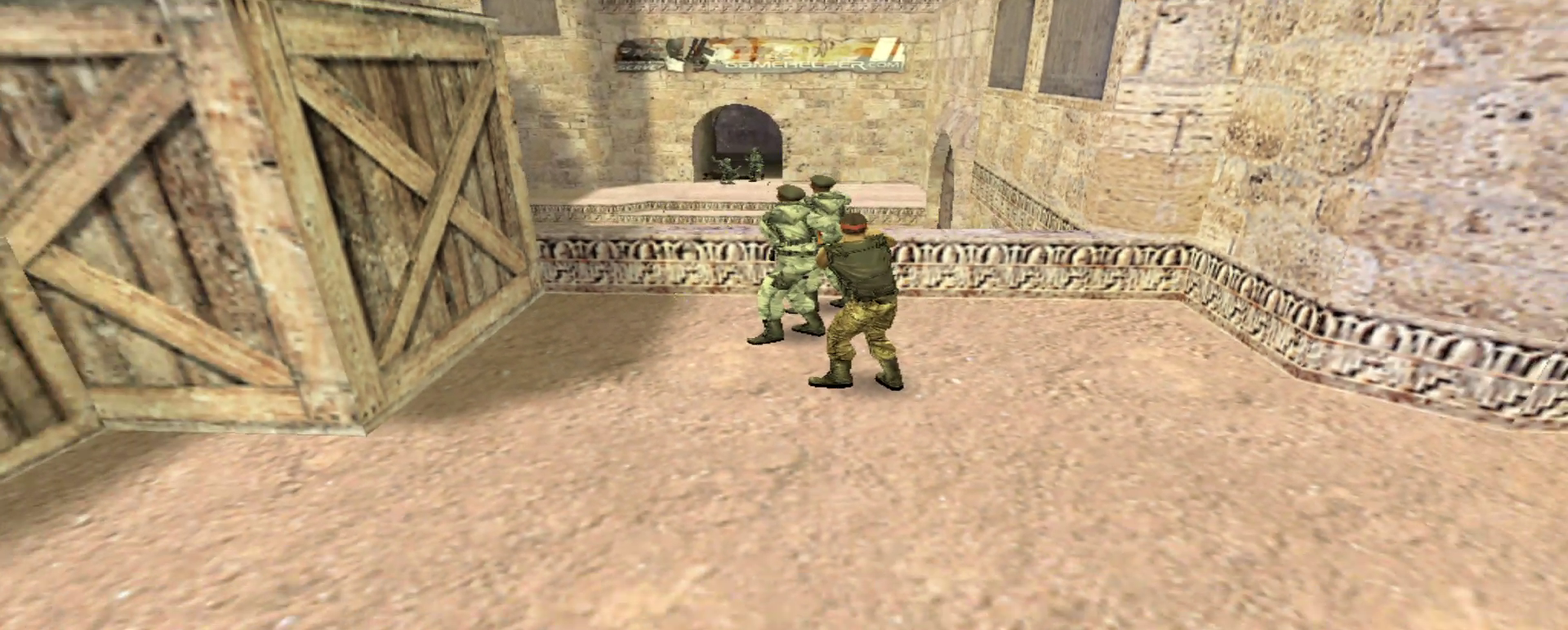counter: (716, 156, 735, 185), (747, 147, 763, 181)
ter: (825, 238, 900, 388), (758, 204, 823, 336), (804, 191, 848, 236)
ter_head: (841, 214, 868, 242), (809, 173, 835, 192), (778, 185, 803, 203)
